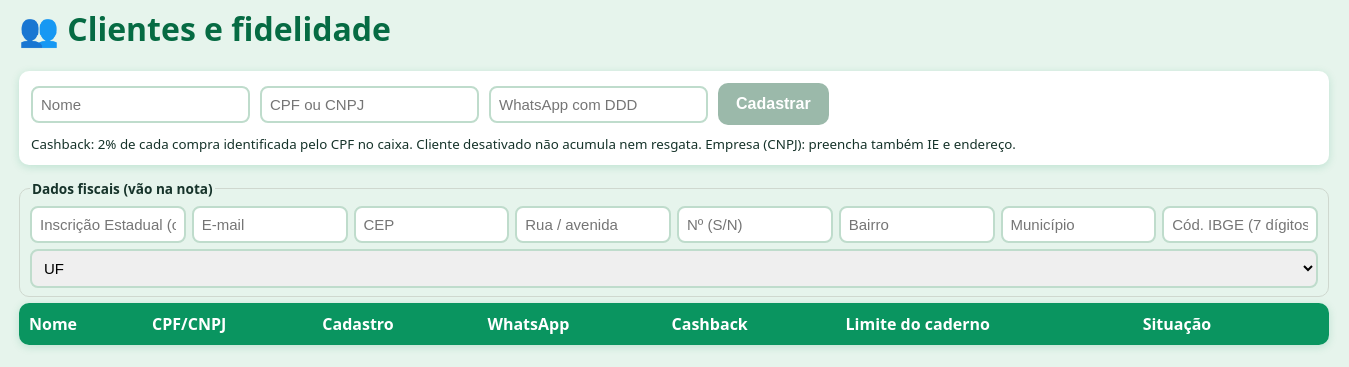
Test: Clientes: só habilita Cadastrar com CPF ou CNPJ válido
Type "Empresa X" into the field with placeholder "Nome" at (140,104), box [31, 86, 250, 123]
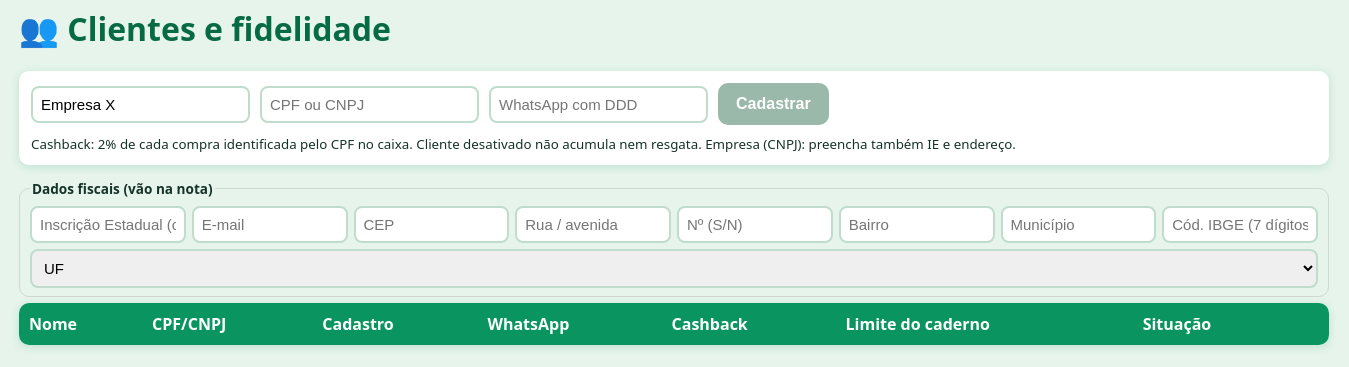
Type "12345678000196" into the field named "CPF ou CNPJ do cliente" at (370,104), box [260, 86, 479, 123]
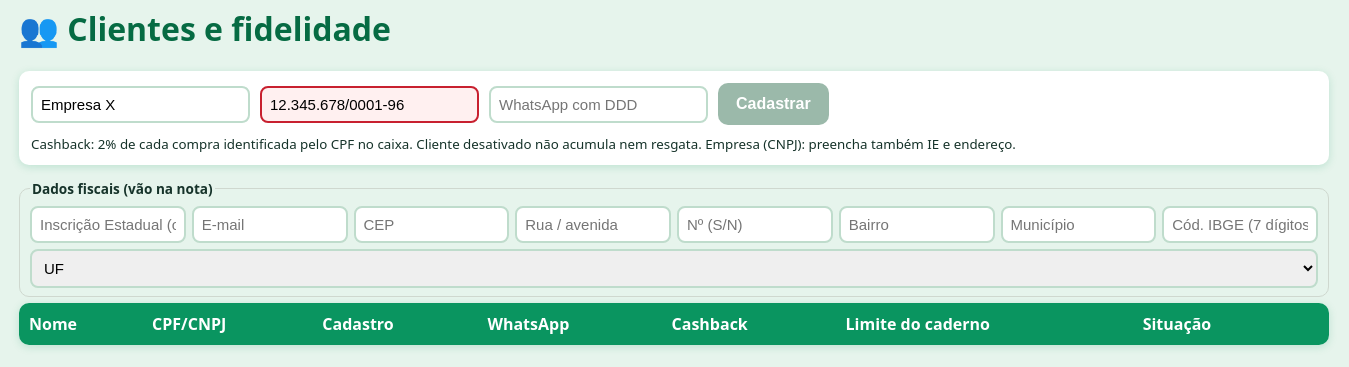
Expected: the button "Cadastrar" is disabled, [718, 83, 829, 125]
Replace the text in the field named "CPF ou CNPJ do cliente" with "12345678000195" at (370,104), box [260, 86, 479, 123]
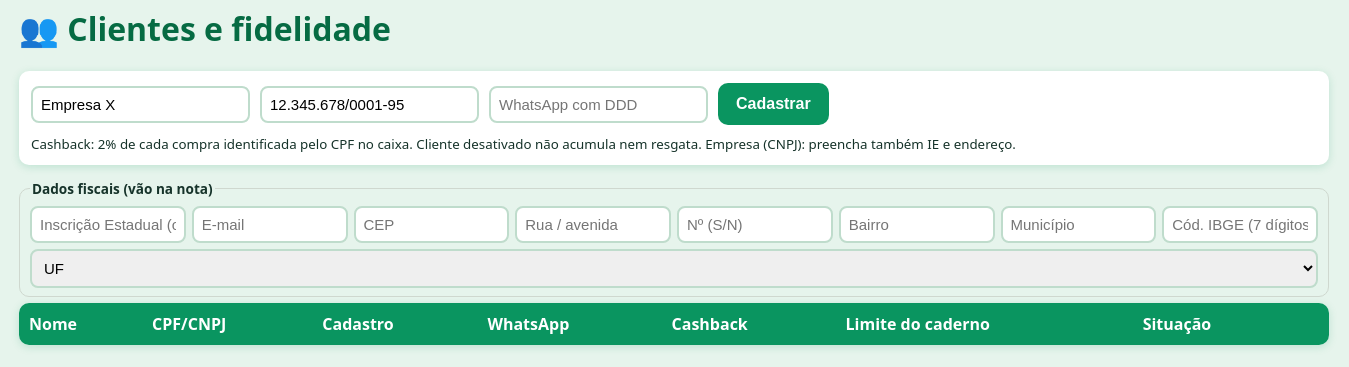
Result: the button "Cadastrar" is enabled at [718, 83, 829, 125]
Result: the field named "CPF ou CNPJ do cliente" holds "12.345.678/0001-95" at [260, 86, 479, 123]
